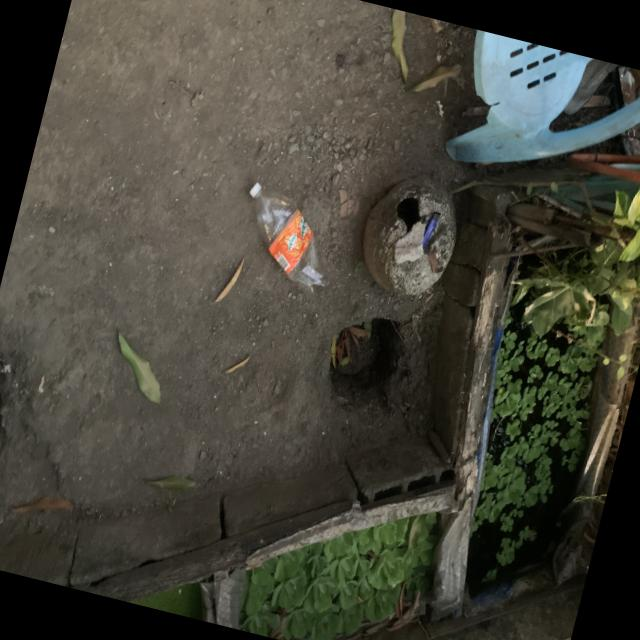Bottle: (248, 183, 323, 292)
